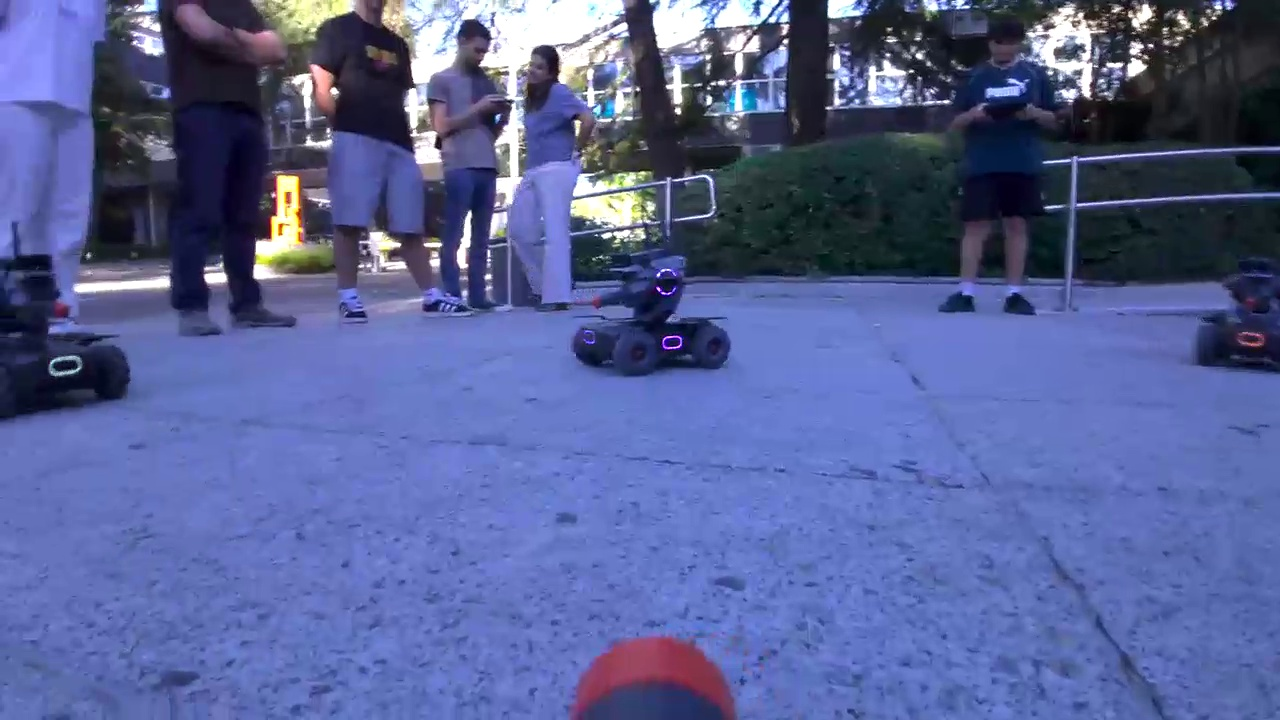robot: (571, 247, 731, 378), (1, 275, 130, 420), (1195, 257, 1280, 370)
